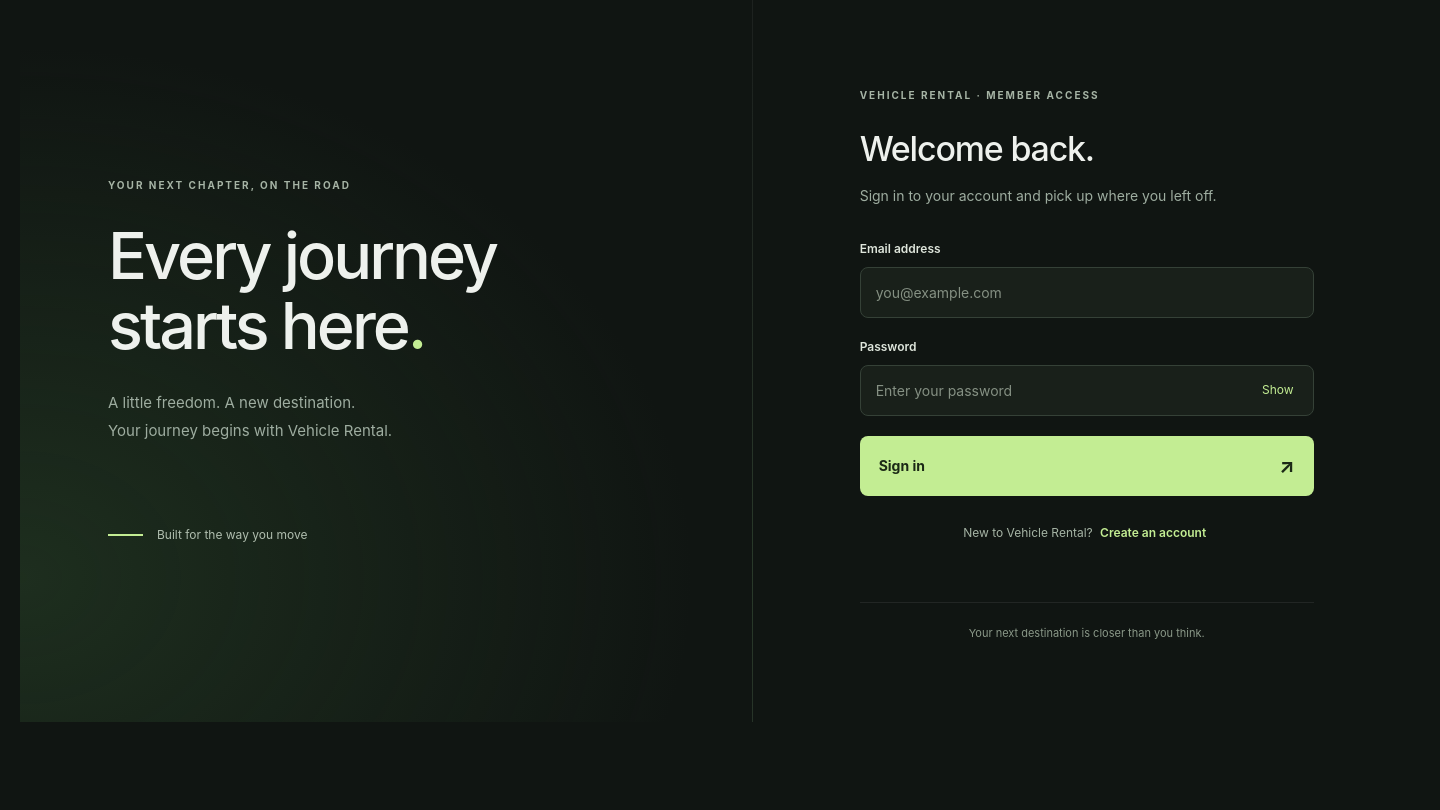
Scenario: authentication UI › validates password confirmation
Click the button "Create an account" at point(1153, 533), box [1096,520,1210,546]
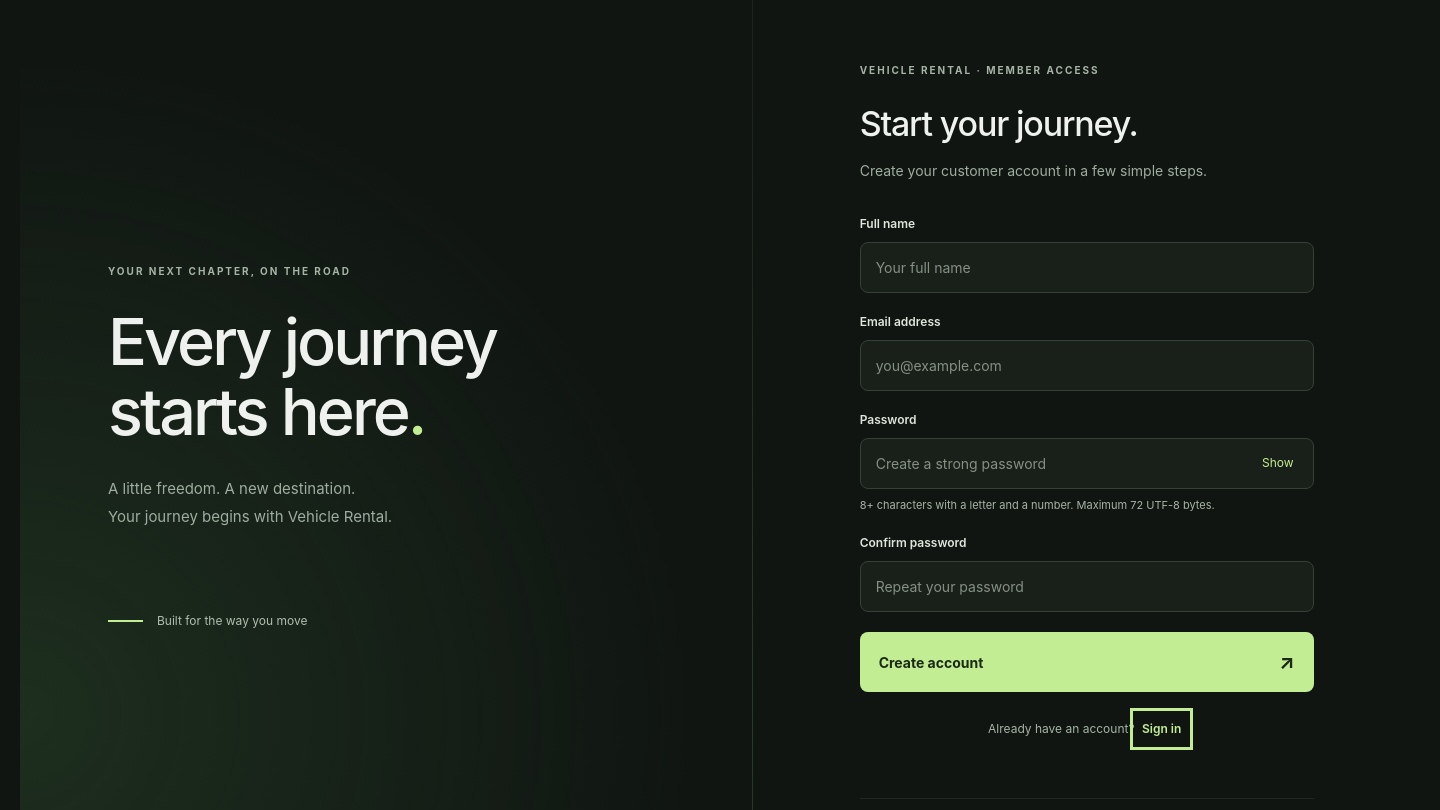
Type "Test Driver" into the field labelled "Full name" at point(1087, 267), box [860,242,1314,293]
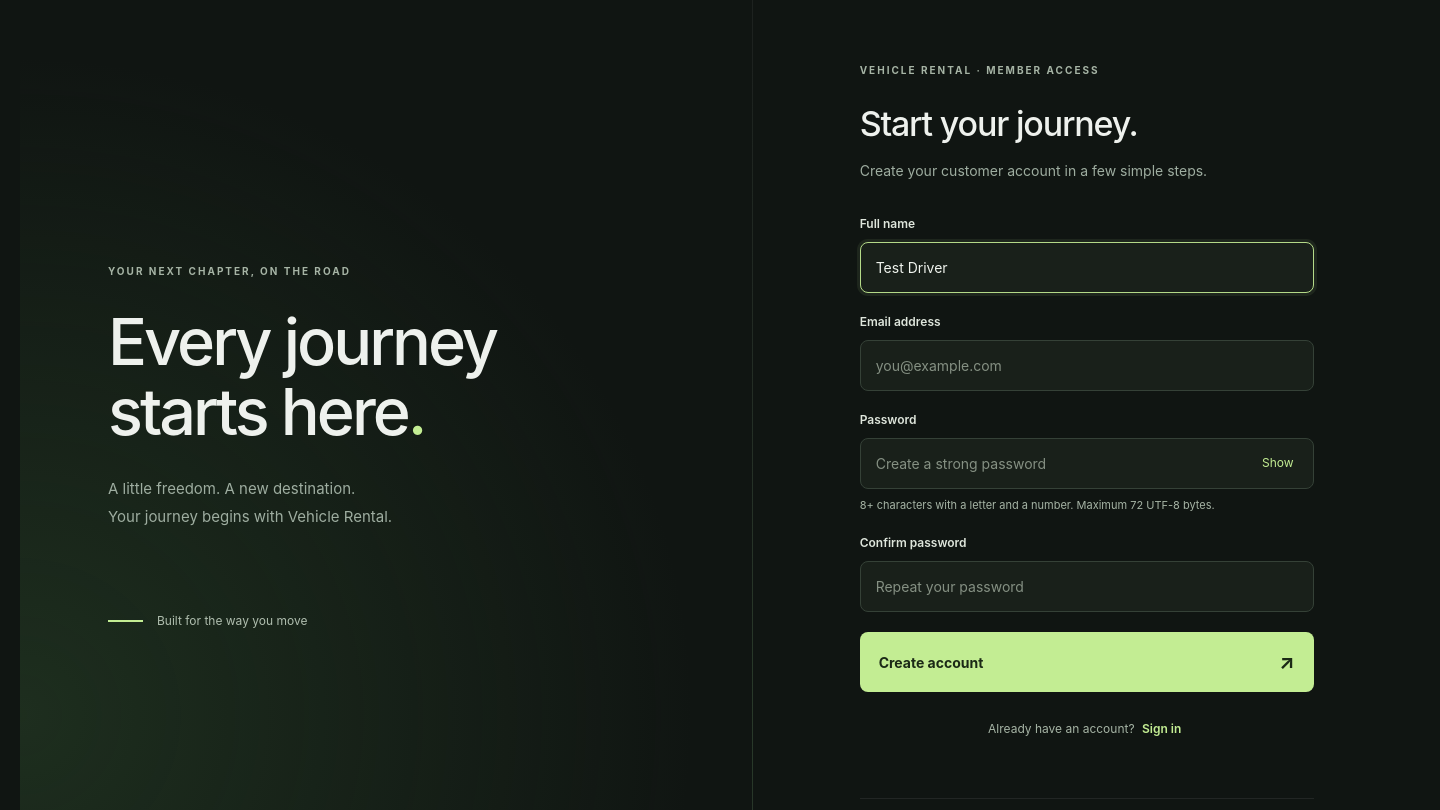
Type "driver@example.com" into the field labelled "Email address" at point(1087, 365), box [860,340,1314,391]
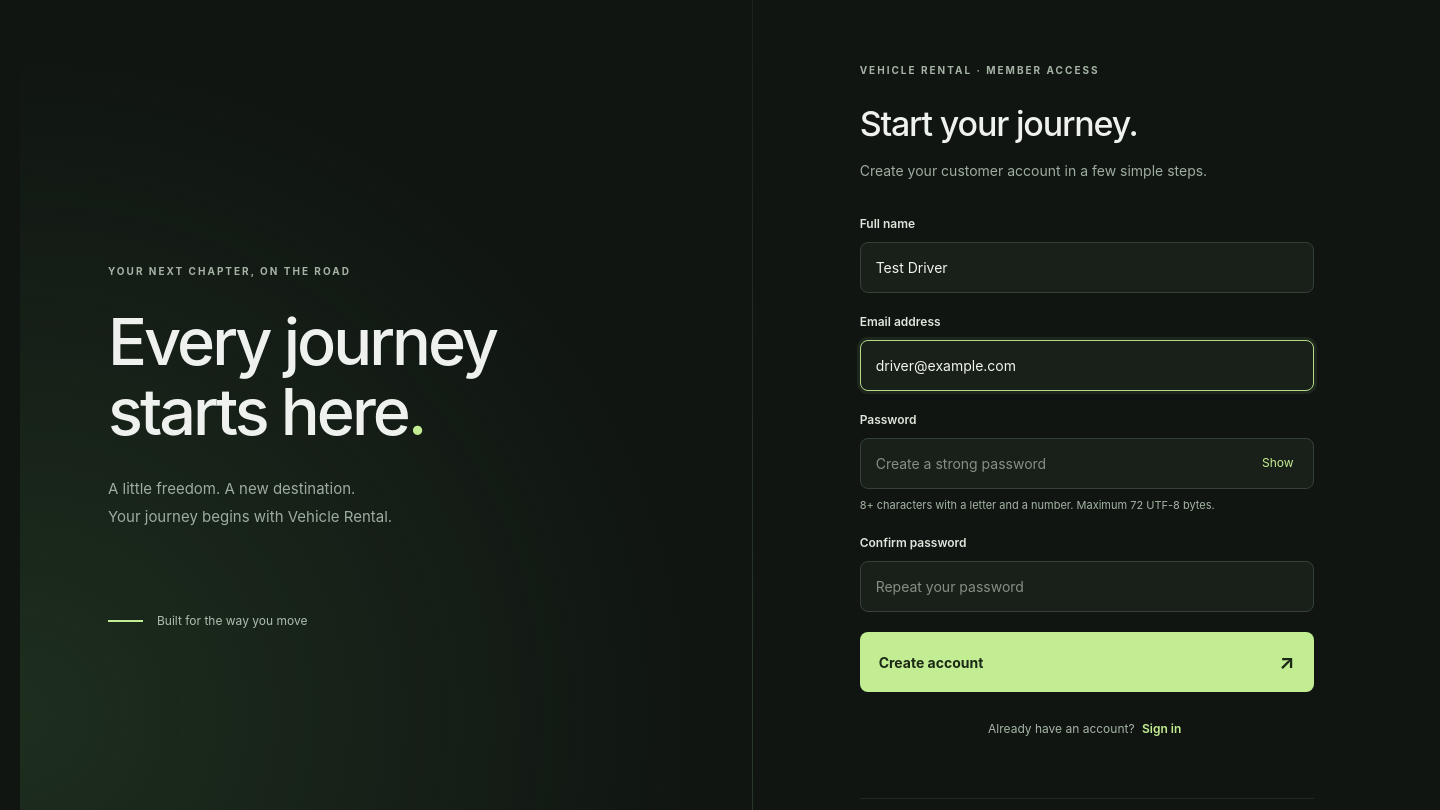
Type "Password123" into the password field labelled "Password" at point(1087, 463), box [860,438,1314,489]
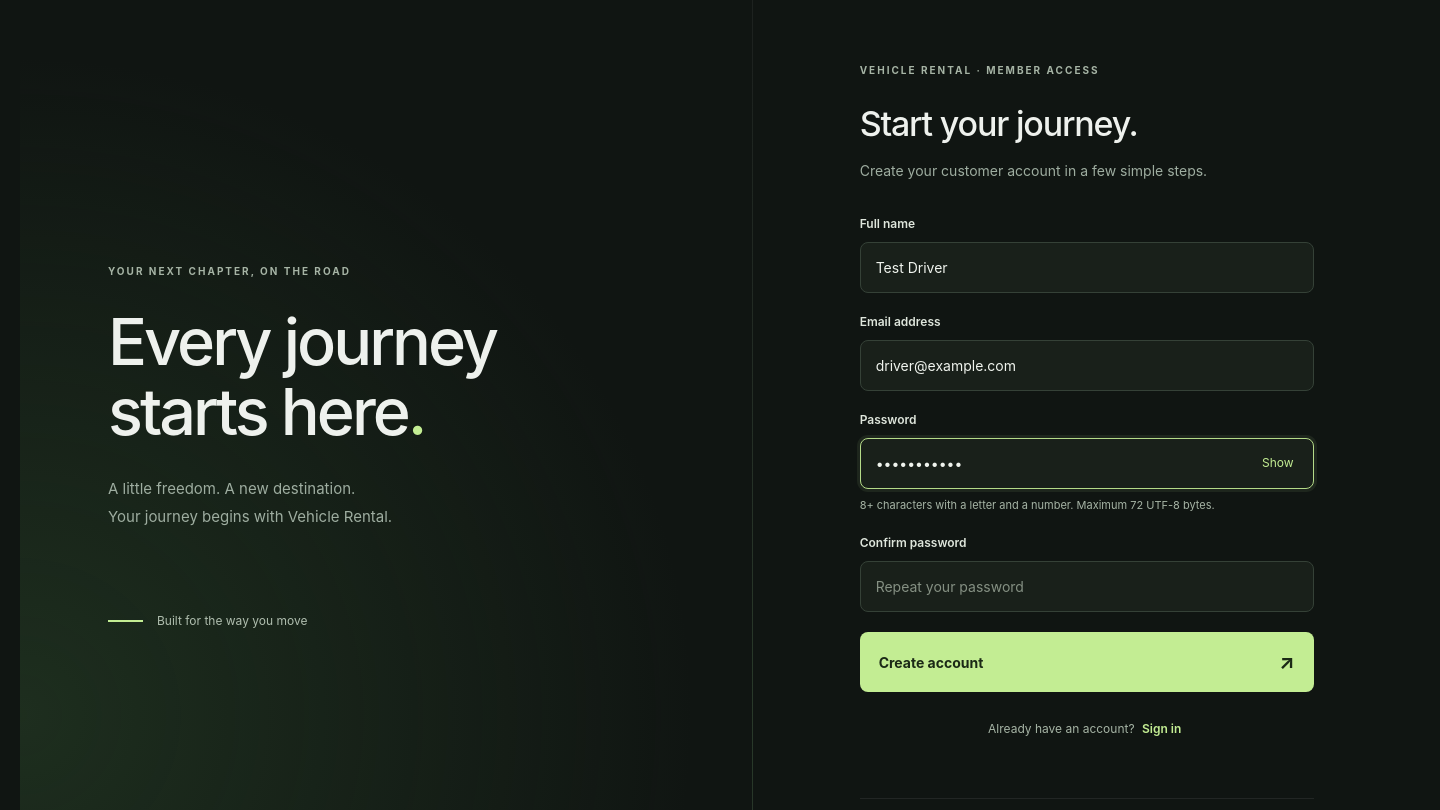
Type "Different123" into the password field labelled "Confirm password" at point(1087, 587), box [860,561,1314,612]
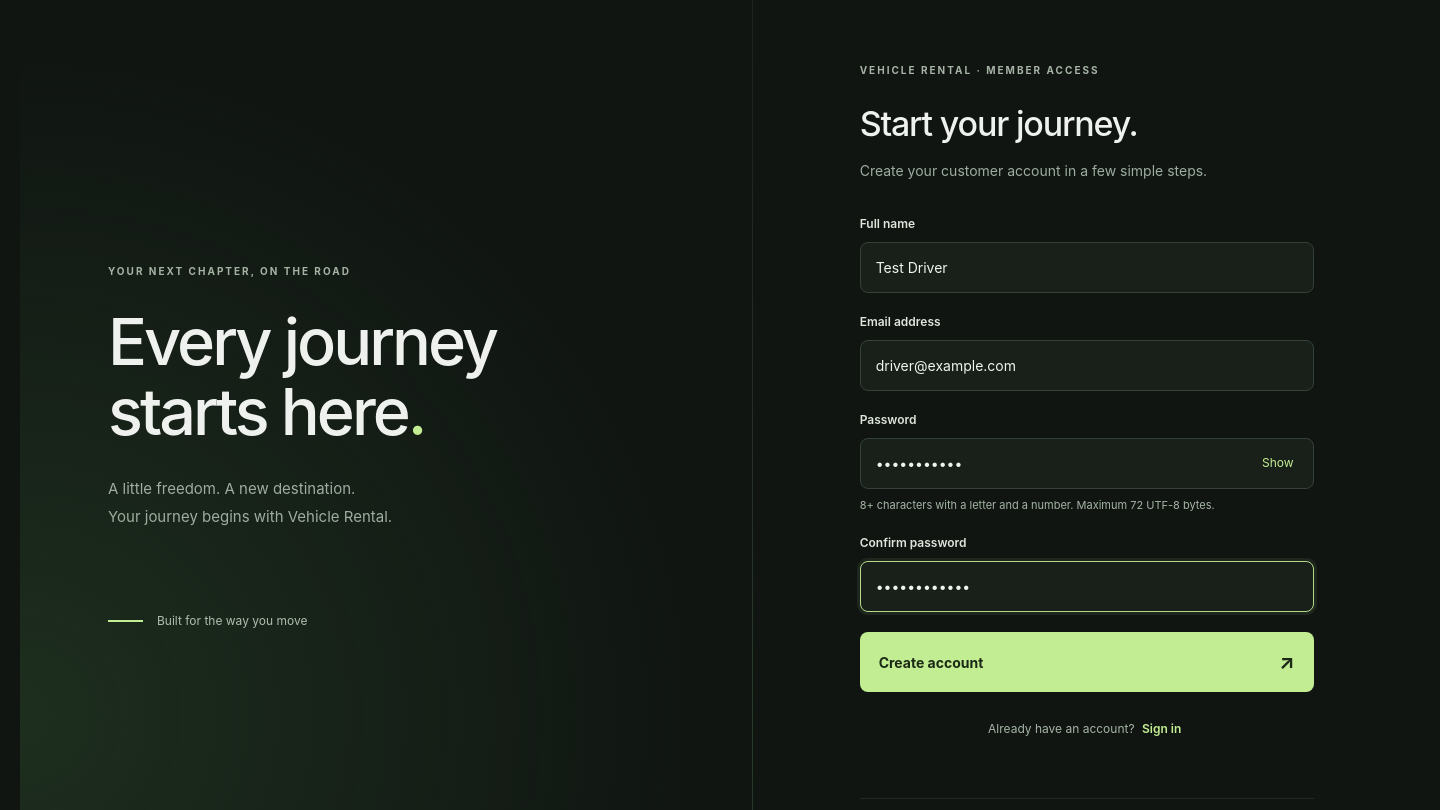
Click the button "Create account ↗" at point(931, 662), box [860,632,1314,692]
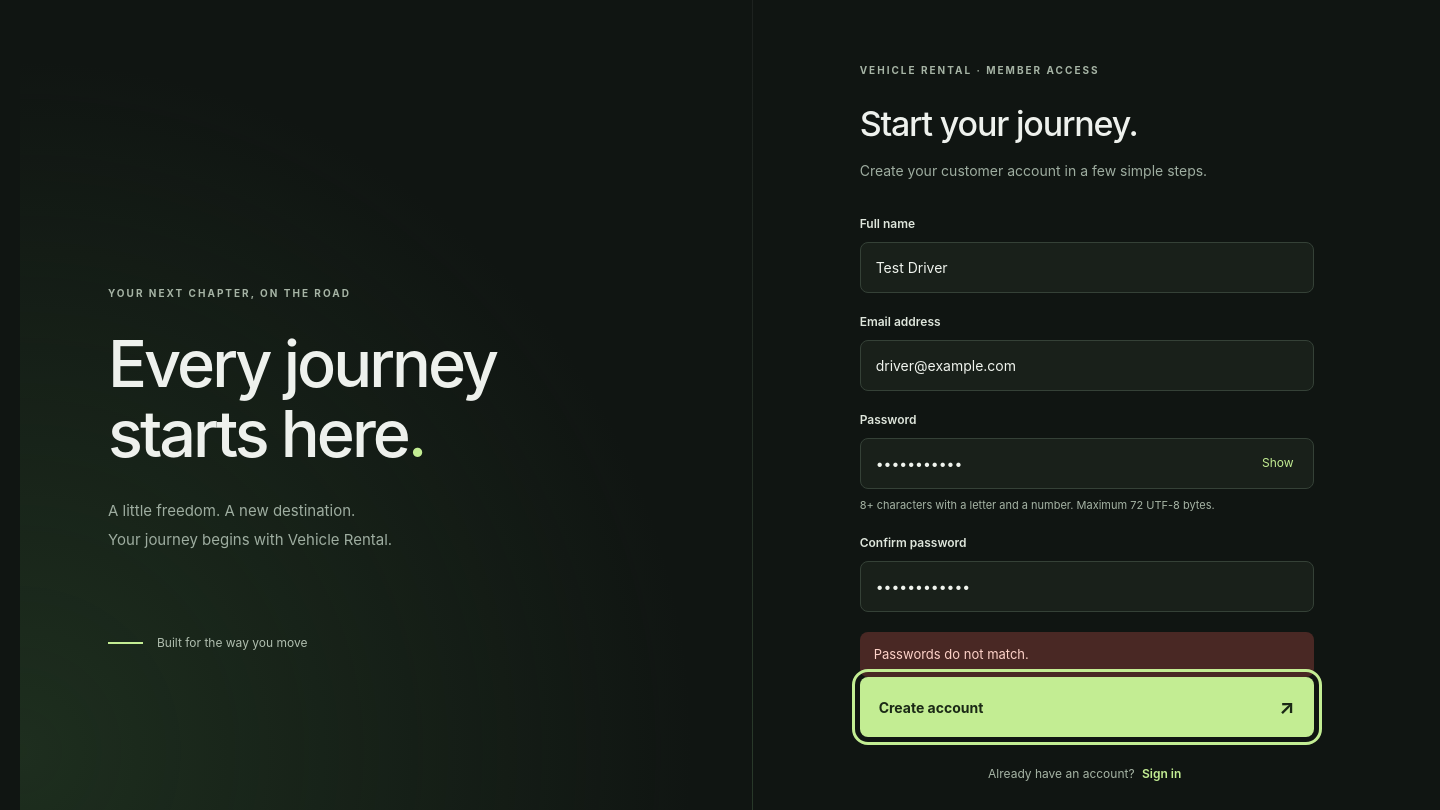
Result: the message shows "do not match" at [874,646,1029,662]
